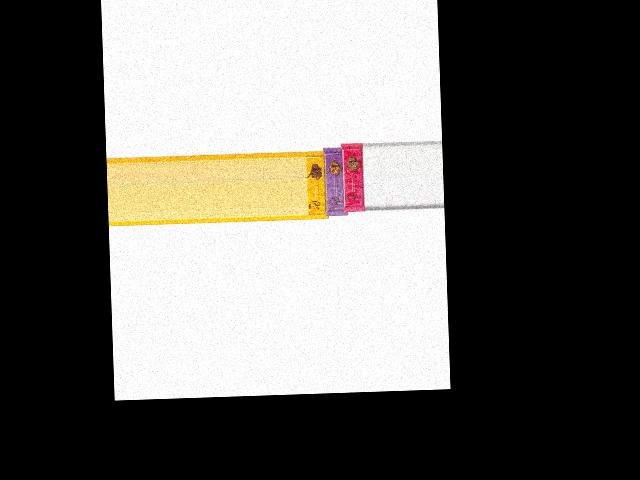chocolate: (341, 138, 366, 215)
